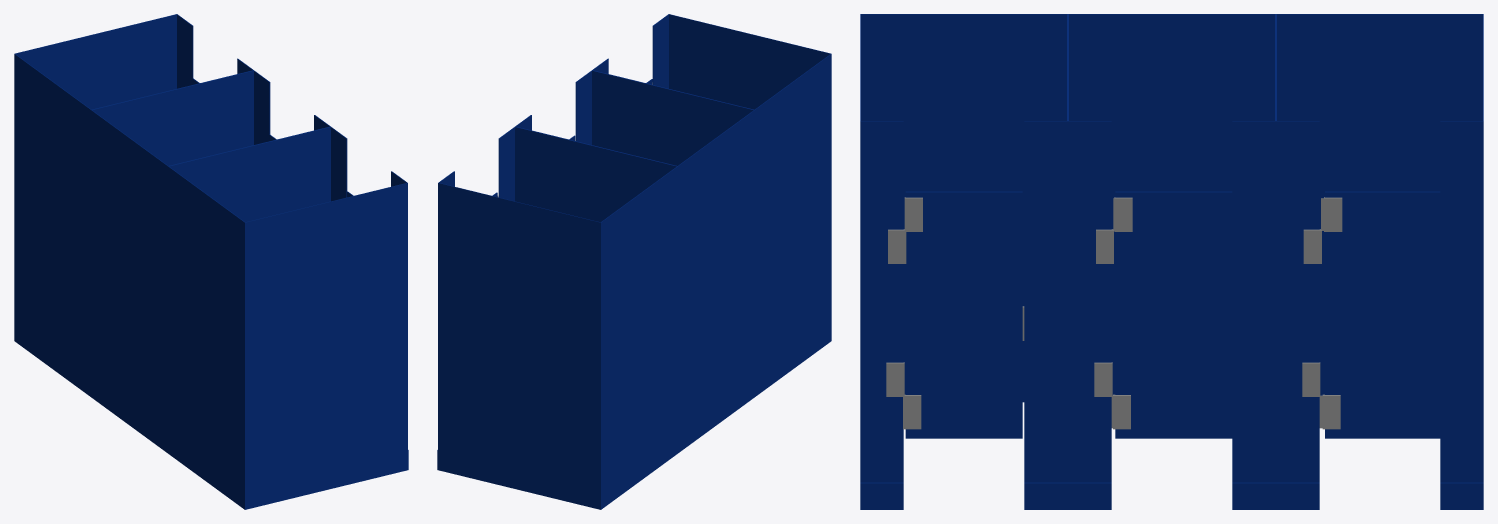
File: Stalls_Asset.fbx
3 views of the same model, side by side, from view 1: azimuth 30°, elevation 25°; view 2: azimuth 150°, elevation 25°; view 3: azimuth 270°, elevation 25° (orthographic). The views are drawn at different scales.
Parts seen in each view (by area): view 1: Stalls_Prefab; view 2: Stalls_Prefab; view 3: Stalls_Prefab, Doors_Asset.
Part boxes in pixels (x1,y1,x2,y2): Stalls_Prefab: (14, 14, 408, 509); Stalls_Prefab: (437, 14, 831, 509); Stalls_Prefab: (860, 14, 1483, 509); Doors_Asset: (903, 191, 1441, 438).
Size of the model in its own units: 2.01 by 3.37 by 4.91.
